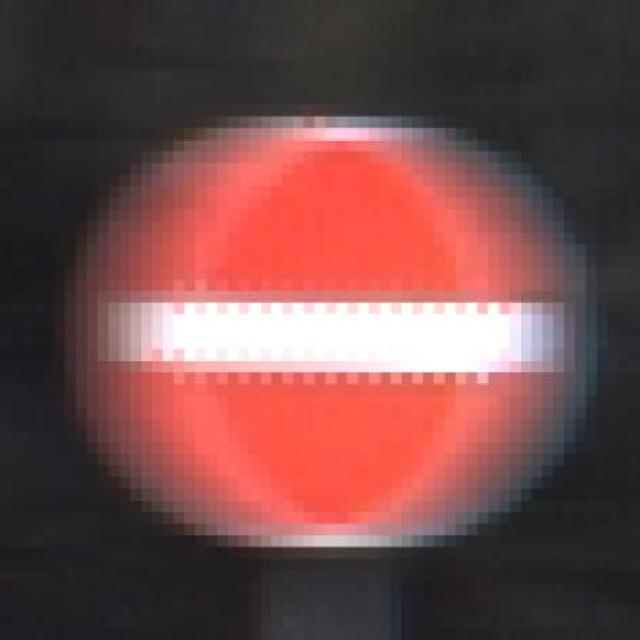No Entry: (54, 105, 608, 548)
